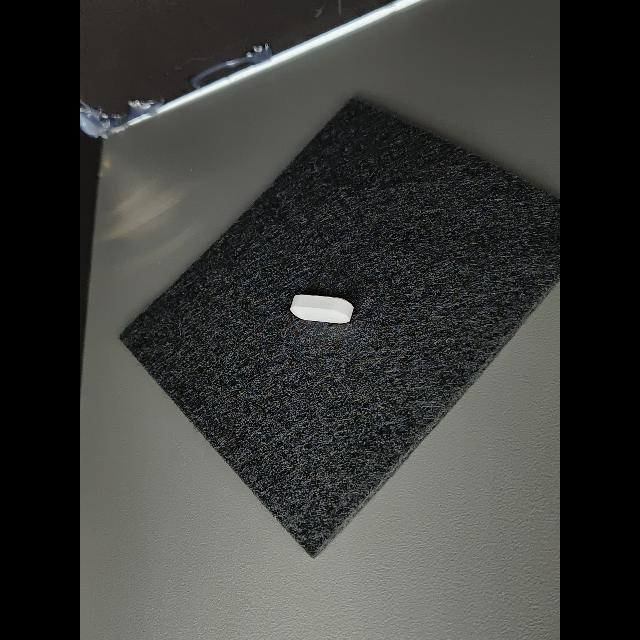Intact Pill: (290, 294, 353, 323)
